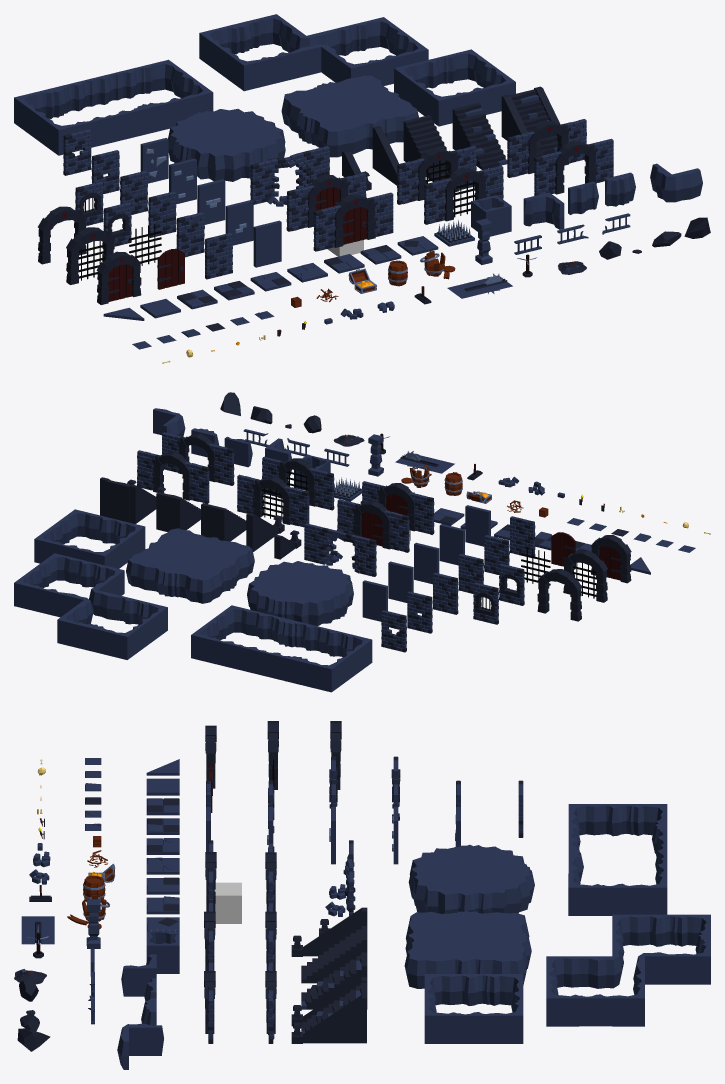
Rendered from LowPolyDungeonAssets.obj.
3 views of the same model, one above another, from view 1: azimuth 30°, elevation 25°; view 2: azimuth 150°, elevation 25°; view 3: azimuth 270°, elevation 25° (orthographic). The views are drawn at different scales.
Visible parts, largest first — view 1: brick_wall_with_door, brick_wall_without_door, ruined_wall, stairs.003, brick_wall_with_bars, brick_wall_without_door.001, brick_wall_with_bars.001, brick_wall_with_door.001, stairs, floor.107, floor.384, floor.332 (+61 smaller); view 2: brick_wall_without_door.001, ruined_wall, brick_wall_with_bars.001, brick_wall_with_door.001, stairs.003, brick_wall_without_door, brick_wall_with_bars, brick_wall_with_door, stairs, door_arc.038, floor.336, stairs.002 (+59 smaller); view 3: stairs.003, stairs, floor.107, stairs_handhail_big, floor.045, floor.008, floor.377, floor.046, floor.378, floor.012, floor.072, floor.338 (+43 smaller).
Part boxes in pixels (left/top/right/bottom): brick_wall_with_door: left=313, top=192, right=393, bottom=251; brick_wall_without_door: left=534, top=138, right=613, bottom=195; ruined_wall: left=250, top=146, right=329, bottom=206; stairs.003: left=501, top=86, right=559, bottom=156; brick_wall_with_bars: left=424, top=165, right=503, bottom=224; brick_wall_without_door.001: left=507, top=119, right=586, bottom=177; brick_wall_with_bars.001: left=397, top=146, right=476, bottom=204; brick_wall_with_door.001: left=286, top=172, right=366, bottom=231; stairs: left=403, top=115, right=447, bottom=181; floor.107: left=650, top=163, right=702, bottom=202; floor.384: left=191, top=147, right=241, bottom=181; floor.332: left=314, top=118, right=365, bottom=157; brick_wall_without_door.001: left=137, top=450, right=209, bottom=503; ruined_wall: left=304, top=523, right=376, bottom=576; brick_wall_with_bars.001: left=237, top=474, right=309, bottom=527; brick_wall_with_door.001: left=337, top=499, right=409, bottom=552; stairs.003: left=100, top=477, right=165, bottom=523; brick_wall_without_door: left=162, top=432, right=234, bottom=485; brick_wall_with_bars: left=262, top=456, right=334, bottom=510; brick_wall_with_door: left=362, top=481, right=434, bottom=534; stairs: left=201, top=503, right=246, bottom=541; door_arc.038: left=537, top=569, right=582, bottom=621; floor.336: left=179, top=568, right=224, bottom=603; stairs.002: left=156, top=492, right=190, bottom=531; stairs.003: left=291, top=977, right=366, bottom=1043; stairs: left=301, top=926, right=366, bottom=983; floor.107: left=117, top=1023, right=163, bottom=1069; stairs_handhail_big: left=291, top=907, right=367, bottom=956; floor.045: left=579, top=942, right=623, bottom=988; floor.008: left=146, top=931, right=179, bottom=973; floor.377: left=486, top=877, right=530, bottom=913; floor.046: left=633, top=952, right=677, bottom=984; floor.378: left=414, top=877, right=455, bottom=913; floor.012: left=490, top=1002, right=523, bottom=1043; floor.072: left=546, top=984, right=579, bottom=1026; floor.338: left=404, top=943, right=452, bottom=988.
Bounding box in the file's own units: 47.39 × 4.84 × 44.6.
